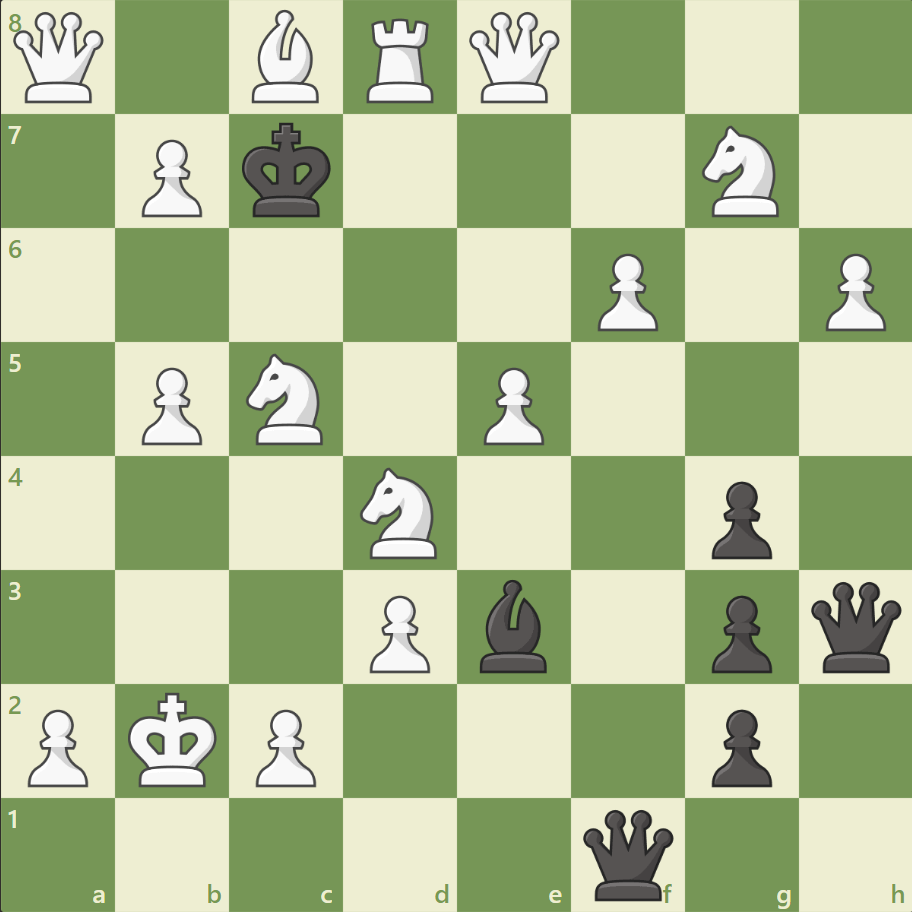B: (244, 6, 328, 109)
K: (124, 685, 224, 793)
N: (351, 461, 449, 564), (692, 121, 789, 223), (238, 348, 335, 450)
P: (133, 132, 208, 223), (133, 359, 208, 450), (474, 359, 549, 450), (20, 700, 95, 791), (247, 700, 322, 791), (588, 246, 662, 337), (815, 246, 889, 337), (361, 586, 435, 677)
Q: (10, 9, 109, 108), (464, 9, 563, 108)
R: (360, 12, 442, 109)
b: (471, 574, 555, 676)
k: (238, 117, 338, 225)
p: (701, 473, 776, 564), (701, 586, 776, 677), (701, 700, 776, 791)
q: (805, 576, 904, 676), (578, 804, 677, 903)
